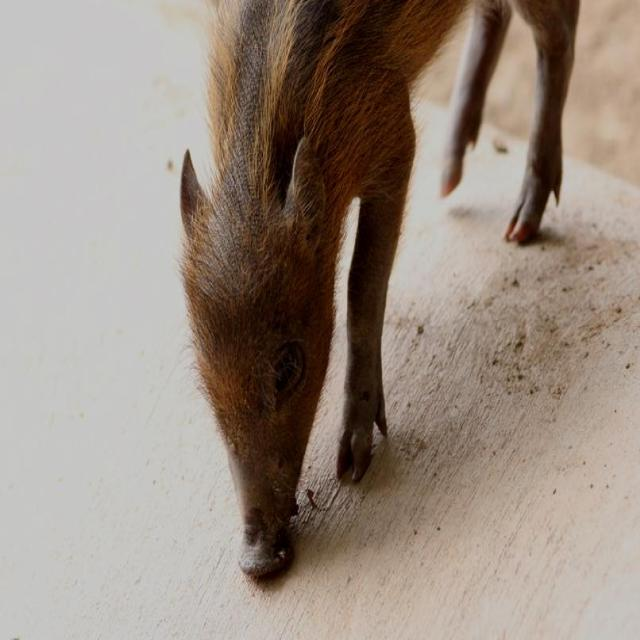pig: (181, 0, 466, 576), (505, 0, 578, 242), (441, 0, 511, 195)
